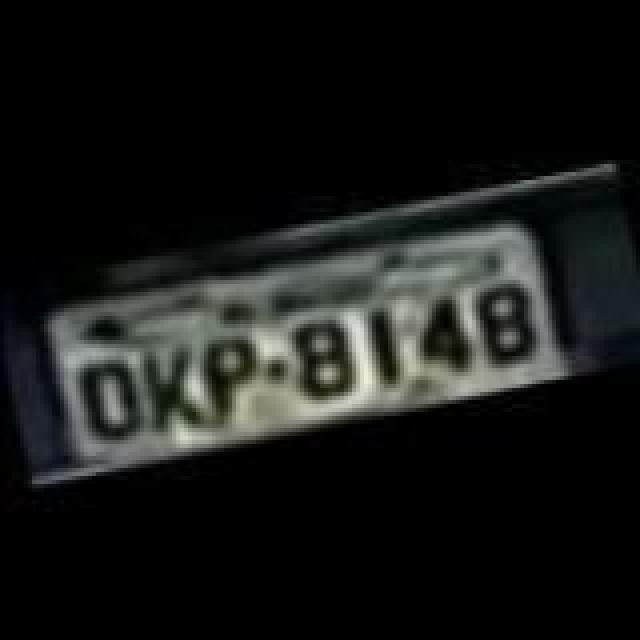1: (358, 292, 406, 380)
4: (402, 284, 482, 380)
8: (466, 270, 546, 366), (284, 314, 360, 402)
K: (132, 334, 212, 438)
O: (66, 350, 142, 442)
P: (190, 322, 270, 422)
